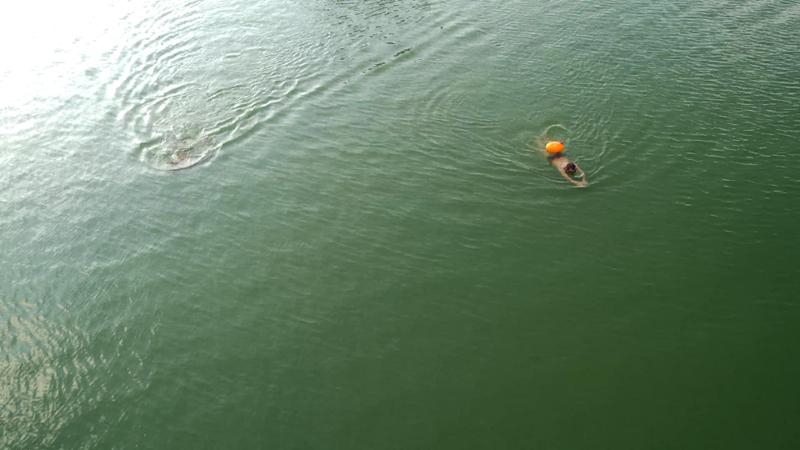swimmers: (535, 133, 587, 189)
